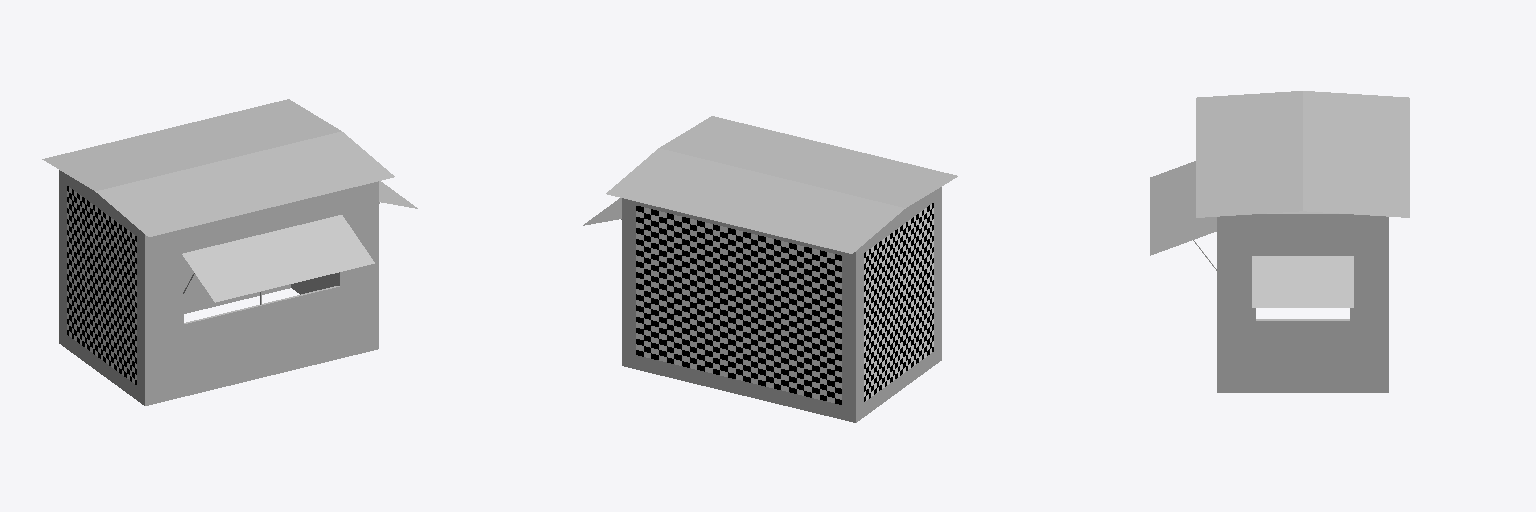
3 renders of one model, left to right at view 1: azimuth 30°, elevation 25°; view 2: azimuth 150°, elevation 25°; view 3: azimuth 270°, elevation 25°, orthographic.
Parts seen in each view (by area): view 1: Puesto_Comida.009; view 2: Puesto_Comida.009; view 3: Puesto_Comida.009.
Part boxes in pixels (left/top/right/bottom): Puesto_Comida.009: left=42, top=99, right=417, bottom=405; Puesto_Comida.009: left=583, top=116, right=957, bottom=422; Puesto_Comida.009: left=1150, top=91, right=1409, bottom=392.
Size of the model in its own units: 4.22 by 2.5 by 3.18.
Materials: 3 (1 with a texture image).